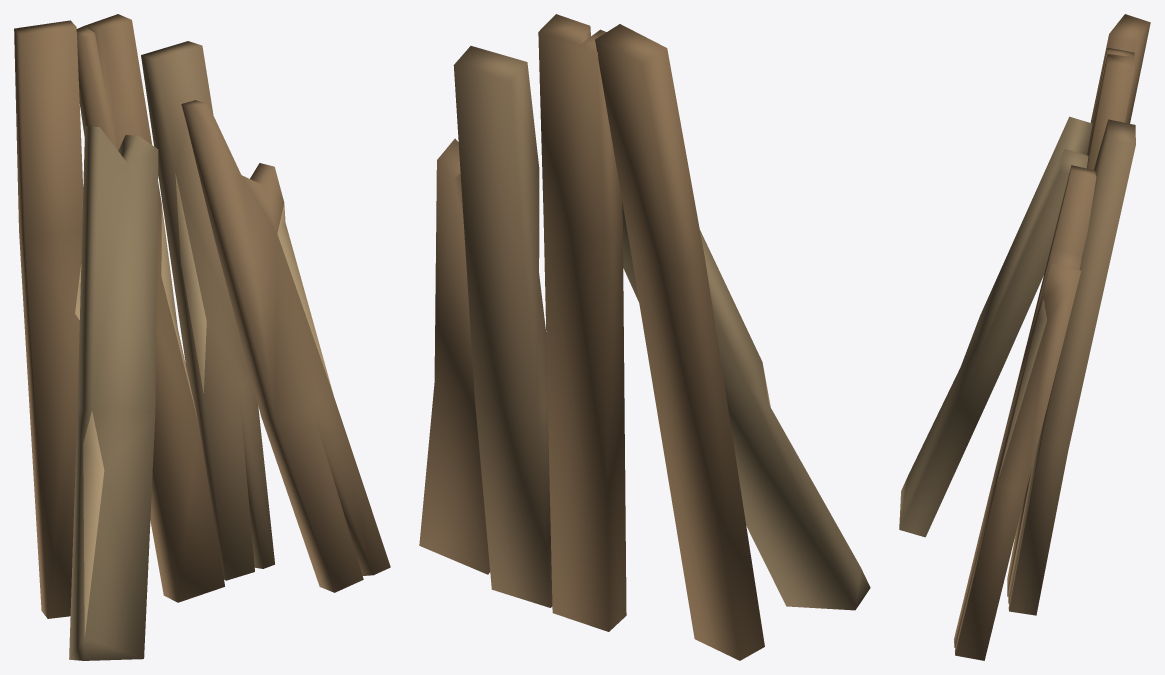
The model's file is rpgpp_av_planks_01d.gltf.
3 renders of one model, left to right at view 1: azimuth 30°, elevation 25°; view 2: azimuth 150°, elevation 25°; view 3: azimuth 270°, elevation 25°, orthographic. The views are drawn at different scales.
Visible parts, largest first — view 1: rpgpp_av_planks_01d; view 2: rpgpp_av_planks_01d; view 3: rpgpp_av_planks_01d.
Part boxes in pixels (x1=…): rpgpp_av_planks_01d: x1=14, y1=14, x2=390, y2=660; rpgpp_av_planks_01d: x1=419, y1=14, x2=870, y2=660; rpgpp_av_planks_01d: x1=899, y1=14, x2=1150, y2=660.
Bounding box in the file's own units: 0.0153 × 0.0241 × 0.0104.
1 material, 1 textured.
